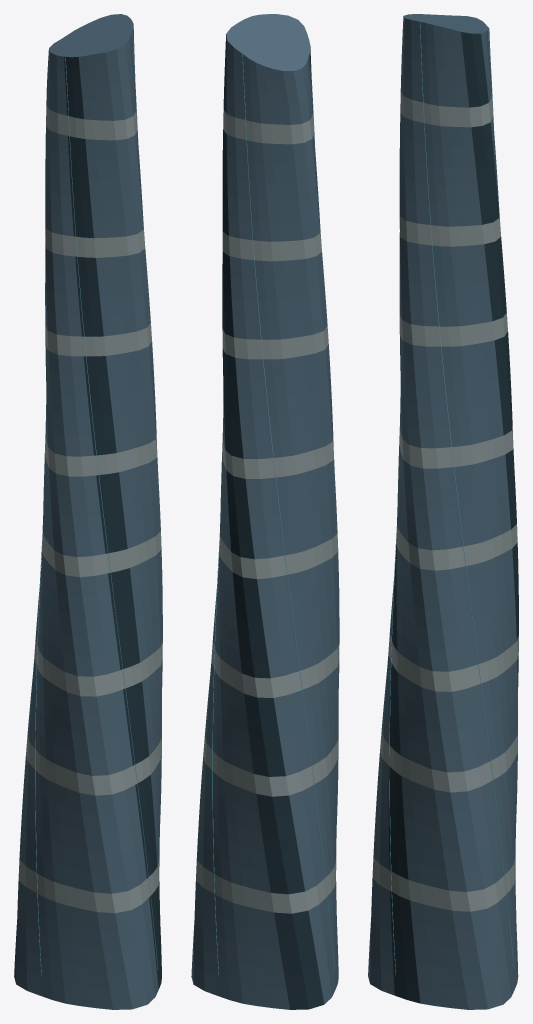
File: shanghai_far.glb
The picture shows the model from 3 angles, left to right: view 1: azimuth 30°, elevation 25°; view 2: azimuth 150°, elevation 25°; view 3: azimuth 270°, elevation 25°; orthographic projection.
Visible parts, largest first — view 1: Glazing, Silver, GlassDark, NightCool; view 2: Glazing, Silver, GlassDark, NightCool; view 3: Glazing, Silver, GlassDark, NightCool.
Part boxes in pixels (<box>): Glazing: <box>16,14,162,1009</box>; Silver: <box>18,105,162,913</box>; GlassDark: <box>14,56,161,989</box>; NightCool: <box>35,32,158,975</box>; Glazing: <box>191,14,339,1009</box>; Silver: <box>196,110,339,913</box>; GlassDark: <box>222,34,324,1009</box>; NightCool: <box>212,54,334,975</box>; Glazing: <box>368,14,518,1009</box>; Silver: <box>372,92,518,911</box>; GlassDark: <box>388,32,518,1003</box>; NightCool: <box>389,22,514,975</box>.
Size of the model in its own units: 91.05 by 632 by 89.36.
